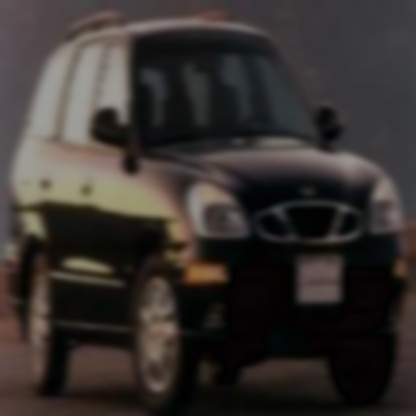Vehicle: (2, 10, 411, 412)
